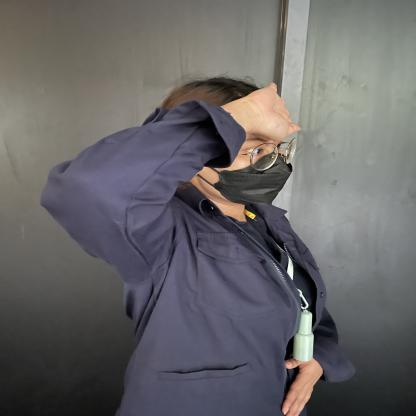Sick: (172, 73, 326, 156)
